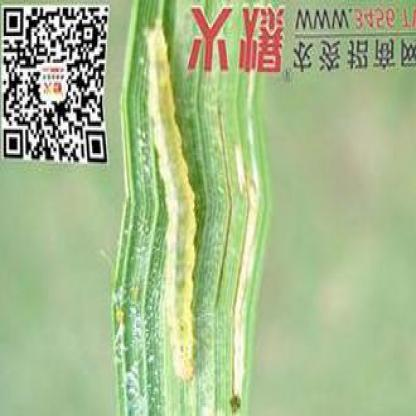leaf-folder: (139, 15, 192, 374)
